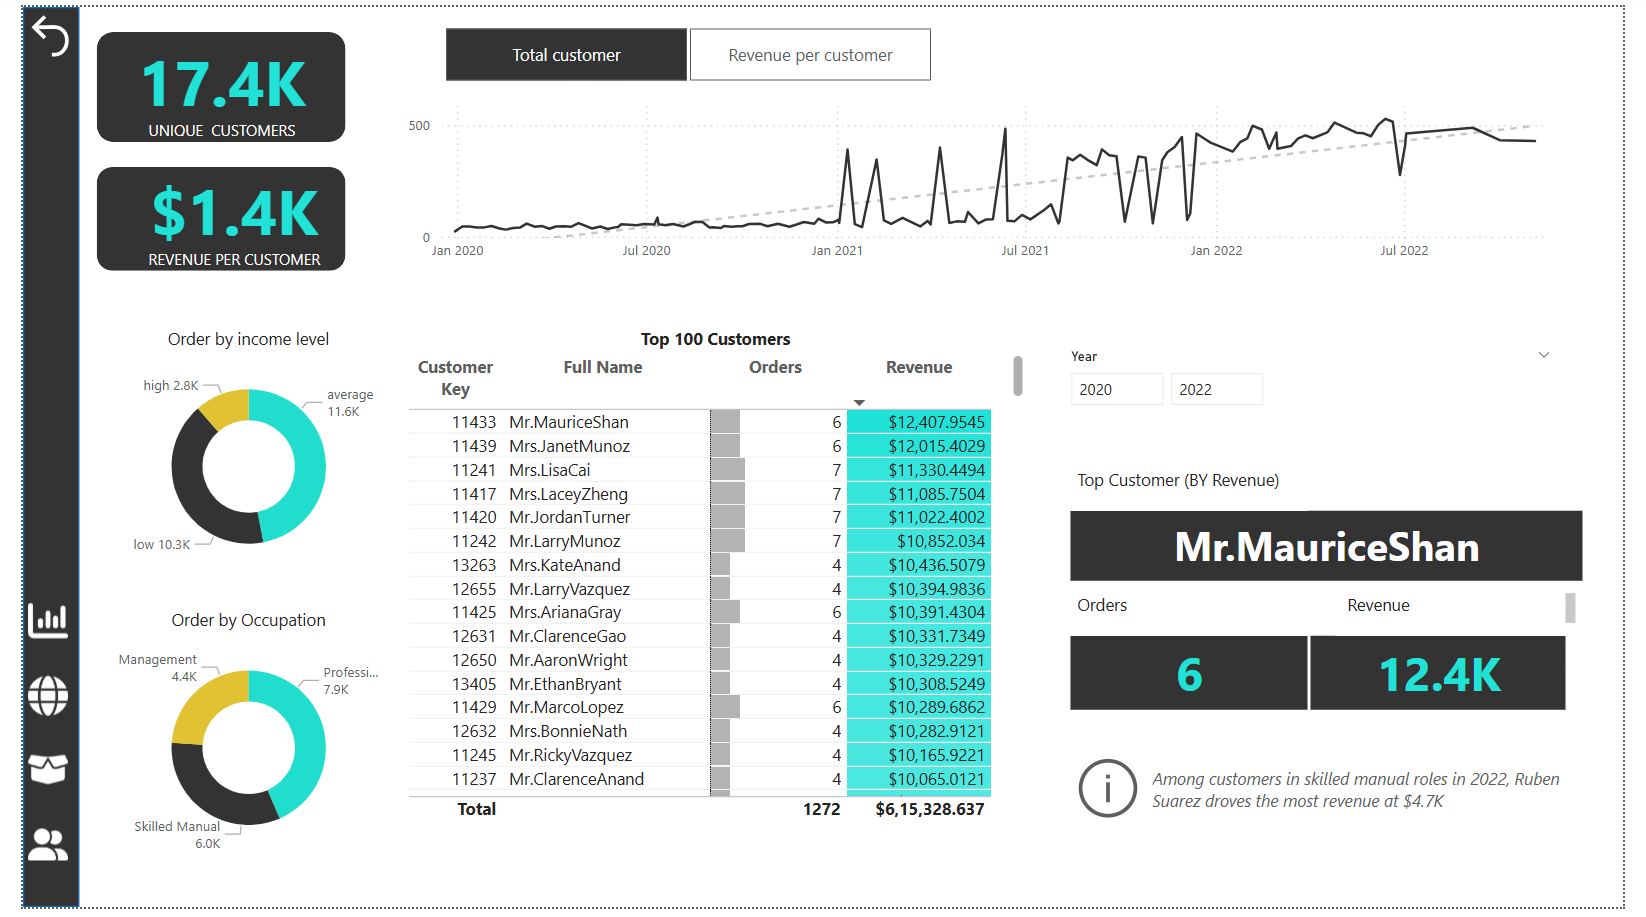

The dashboard page shown, as its layout file describes it:
{"tool":"powerbi","page":{"name":"Customer detail","canvas":[1280,720],"ordinal":3},"visuals":[{"type":"shape","box":[0,0,45,720],"z":0},{"type":"actionButton","box":[0,470.9,44.6,40.3],"z":0,"group":"g1"},{"type":"shape","box":[58.8,20,198.8,87.5],"z":1000},{"type":"actionButton","box":[0,589.9,44.6,40.3],"z":1000,"group":"g1"},{"type":"card","fields":{"Values":["Measure Table (2).total customer"]},"box":[68.8,23.8,178.8,83.8],"z":2000},{"type":"actionButton","box":[0,649.5,44.6,40.3],"z":2000,"group":"g1"},{"type":"shape","box":[58.8,127.5,198.8,83.8],"z":3000},{"type":"actionButton","box":[0,530.4,44.6,40.3],"z":3000,"group":"g1"},{"type":"card","fields":{"Values":["Measure Table (2).average revenue per customer"]},"box":[88.8,127.5,158.8,83.8],"z":4000},{"type":"lineChart","fields":{"Y":["Measure Table (2).total customer"],"Category":["Calendar Lookup.\"Date Heirarchy\".Start of Year","Calendar Lookup.\"Date Heirarchy\".Start of Month","Calendar Lookup.\"Date Heirarchy\".Start of Week","Calendar Lookup.\"Date Heirarchy\".Date"]},"box":[302.4,63.4,931.7,148.3],"z":5000},{"type":"donutChart","title":"Order by income level","fields":{"Category":["Customer Lookup.income level"],"Y":["Measure Table (2).total order"]},"box":[69.1,256.3,221.8,205.9],"z":6000},{"type":"donutChart","title":"Order by  Occupation","fields":{"Y":["Measure Table (2).total order"],"Category":["Customer Lookup.Occupation"]},"box":[69.1,481,221.8,205.9],"z":7000},{"type":"tableEx","title":"Top 100 Customers","fields":{"Values":["Customer Lookup.CustomerKey","Customer Lookup.Full name","Measure Table (2).total order","Measure Table (2).total revenue"]},"box":[302.4,256.3,502.6,398.9],"z":8000},{"type":"card","fields":{"Values":["Customer Lookup.Full name (customer detail)"]},"box":[838.1,403.2,409,56.2],"z":9000},{"type":"card","fields":{"Values":["Measure Table (2).Total orders (customer detail)"]},"box":[838.1,502.6,188.6,59],"z":10000},{"type":"card","fields":{"Values":["Measure Table (2).Total Revenue (customer detail)"]},"box":[1029.6,502.6,204.5,59],"z":11000},{"type":"textbox","box":[838.1,364.3,188.6,38.9],"z":12000},{"type":"textbox","box":[1049.8,463.7,197.3,38.9],"z":13000},{"type":"textbox","box":[838.1,463.7,188.6,38.9],"z":14000},{"type":"slicer","fields":{"Values":["Calendar Lookup.Year"]},"box":[825.1,267.8,409,82.1],"z":15000},{"type":"actionButton","box":[838.1,594.7,423.4,60.5],"z":16000},{"type":"actionButton","box":[0,1.4,44.6,43.2],"z":17000},{"type":"group","id":"g1","title":"Navigation Buttons","box":[0,470.9,44.6,218.9],"z":18000},{"type":"slicer","fields":{"Values":["Customer Metric Selection.Customer Metric Selection"]},"box":[312.5,10.1,437.8,56.2],"z":19000}]}

Visuals, with their boxes in screenshot pixels (x1, y1, x2, y2), scaled from the page's 1280x720 canvas onto the 1646x917 screenshot:
shape: 0, 0, 58, 916
actionButton: 0, 600, 57, 651
shape: 76, 25, 331, 137
actionButton: 0, 751, 57, 803
card - Measure Table (2).total customer: 88, 30, 318, 137
actionButton: 0, 827, 57, 879
shape: 76, 162, 331, 269
actionButton: 0, 676, 57, 727
card - Measure Table (2).average revenue per customer: 114, 162, 318, 269
lineChart - Measure Table (2).total customer x Calendar Lookup."Date Heirarchy".Start of Year: 389, 81, 1587, 270
"Order by income level" donutChart: 89, 326, 374, 589
"Order by  Occupation" donutChart: 89, 613, 374, 875
"Top 100 Customers" tableEx: 389, 326, 1035, 834
card - Customer Lookup.Full name (customer detail): 1078, 514, 1604, 585
card - Measure Table (2).Total orders (customer detail): 1078, 640, 1320, 715
card - Measure Table (2).Total Revenue (customer detail): 1324, 640, 1587, 715
textbox: 1078, 464, 1320, 514
textbox: 1350, 591, 1604, 640
textbox: 1078, 591, 1320, 640
slicer - Calendar Lookup.Year: 1061, 341, 1587, 446
actionButton: 1078, 757, 1622, 834
actionButton: 0, 2, 57, 57
"Navigation Buttons" group: 0, 600, 57, 879
slicer - Customer Metric Selection.Customer Metric Selection: 402, 13, 965, 84
